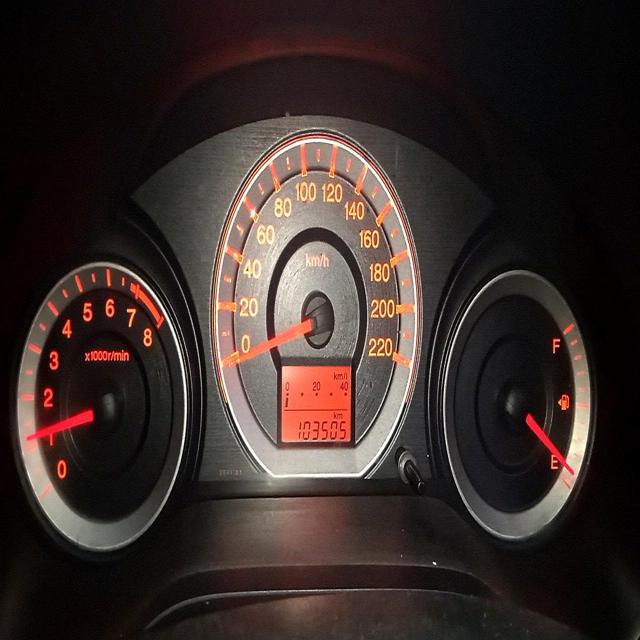odometer: (297, 419, 348, 441)
